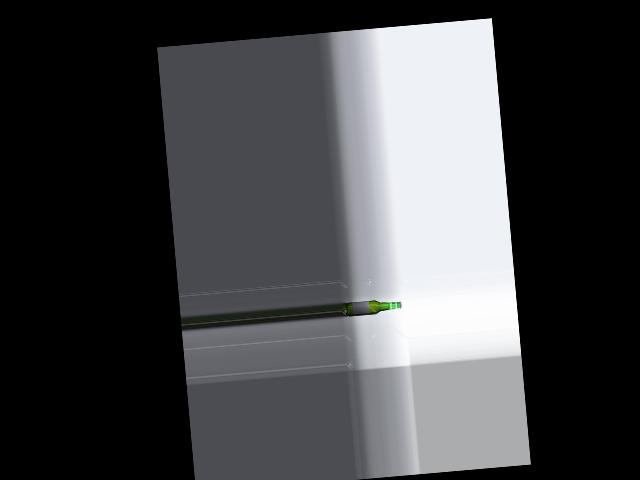beer: (346, 298, 401, 316)
